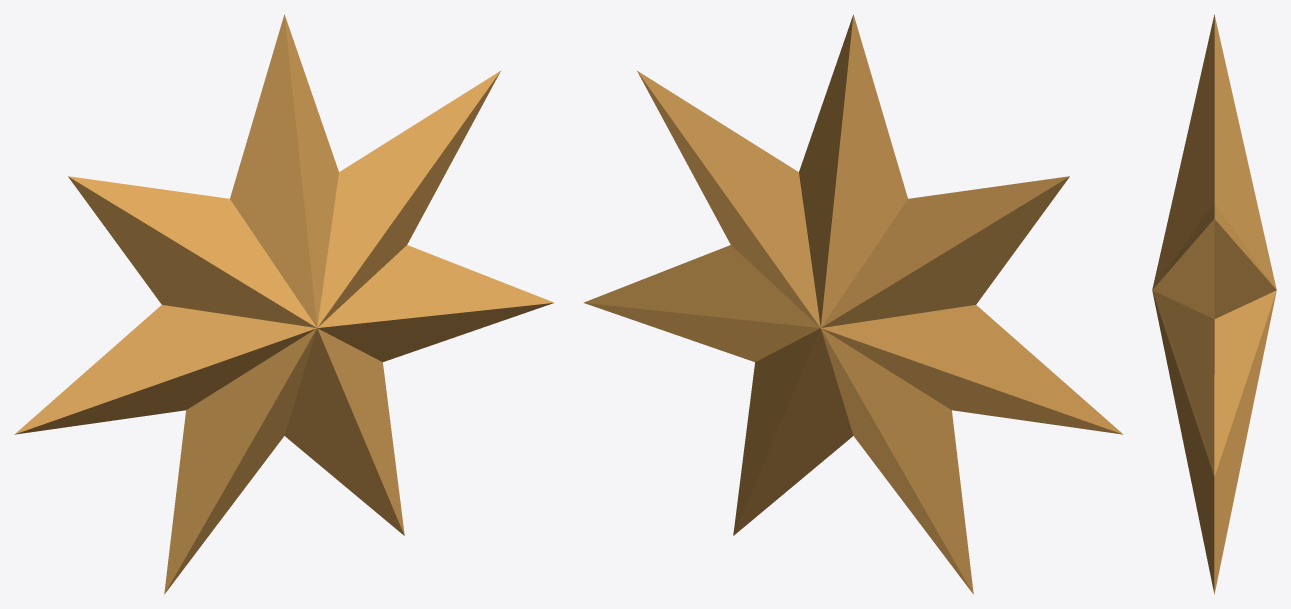
The model's file is StarForTree.fbx.
3 renders of one model, left to right at view 1: azimuth 30°, elevation 25°; view 2: azimuth 150°, elevation 25°; view 3: azimuth 270°, elevation 25°, orthographic. The views are drawn at different scales.
Visible parts, largest first — view 1: TreeStar; view 2: TreeStar; view 3: TreeStar.
Boxes of the visible parts, x1,y1,x2,y2 form: TreeStar: (14,14,554,594); TreeStar: (583,14,1123,594); TreeStar: (1152,14,1276,594).
Bounding box in the file's own units: 68.03 × 66.33 × 14.27.
